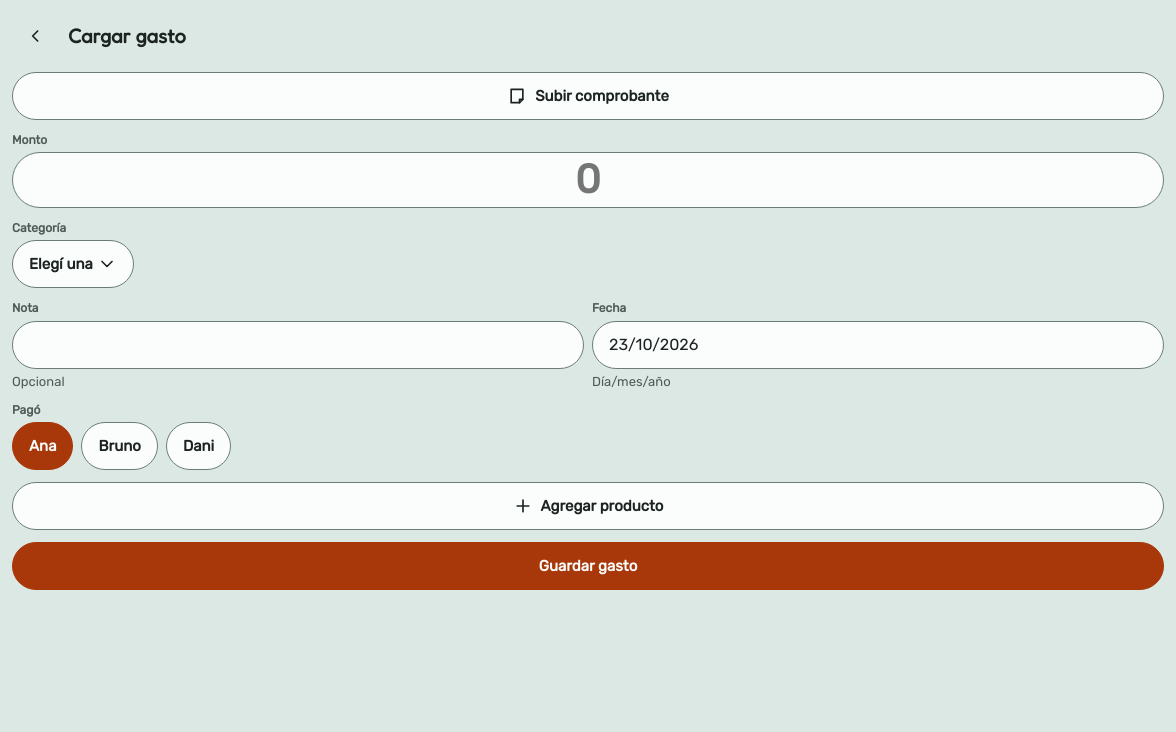
valida el monto y la categoría antes de guardar
This screenshot has width=1176, height=732.
Click the button "Guardar gasto" at x=588, y=566, box [12,542,1164,590]
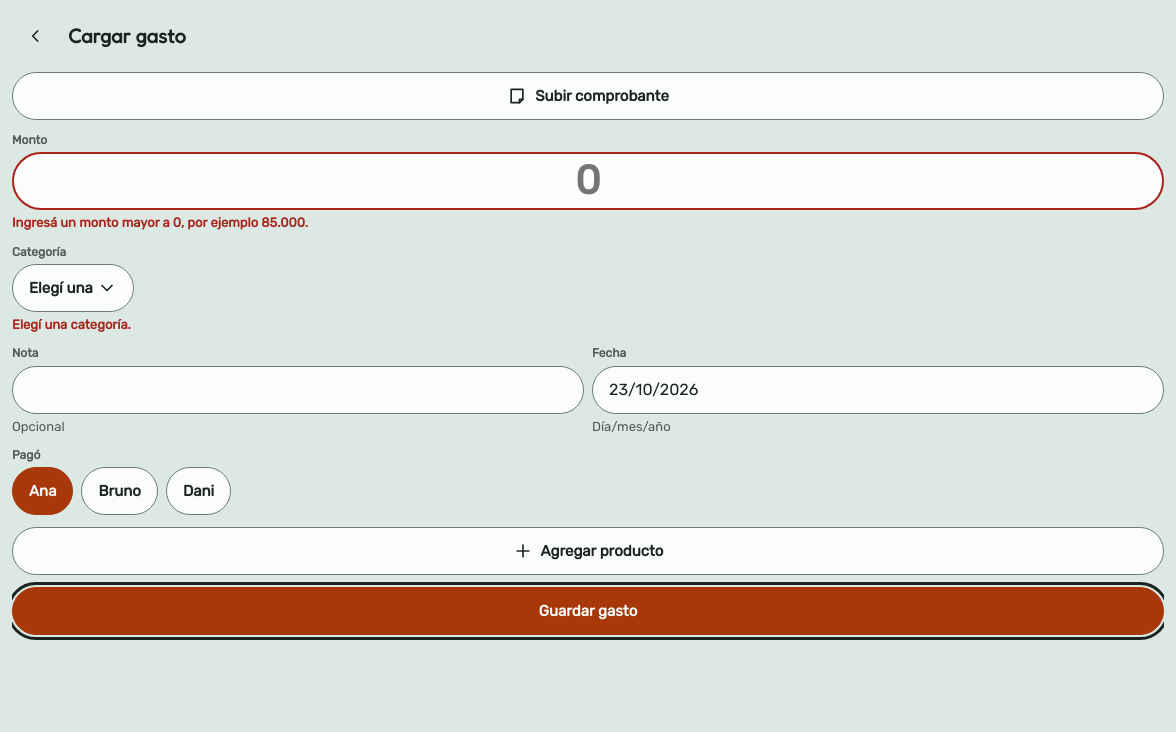
Expected: the text "Ingresá un monto mayor a 0, por ejemplo 85.000." is shown, [12,215,308,230]
Expected: the text "Elegí una categoría." is shown, [12,317,131,332]
Type "12,345" into the field labelled "Monto" at x=588, y=181, box [12,152,1164,210]
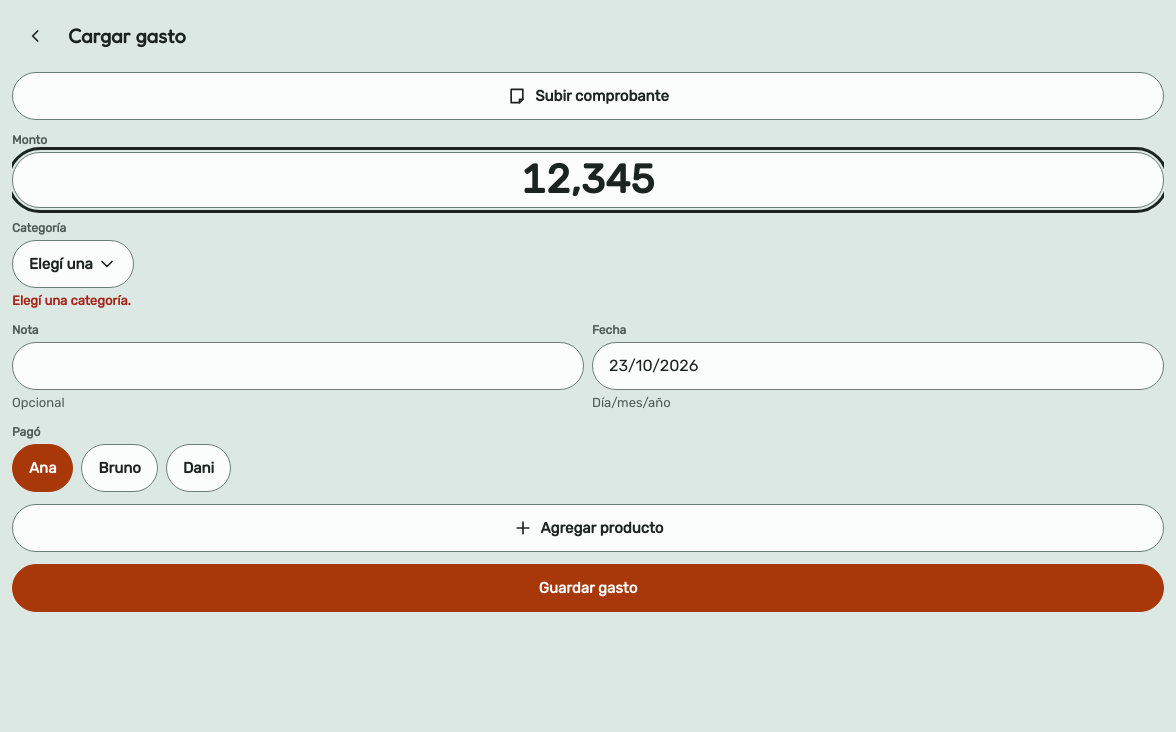
Click the button "Guardar gasto" at x=588, y=588, box [12,564,1164,612]
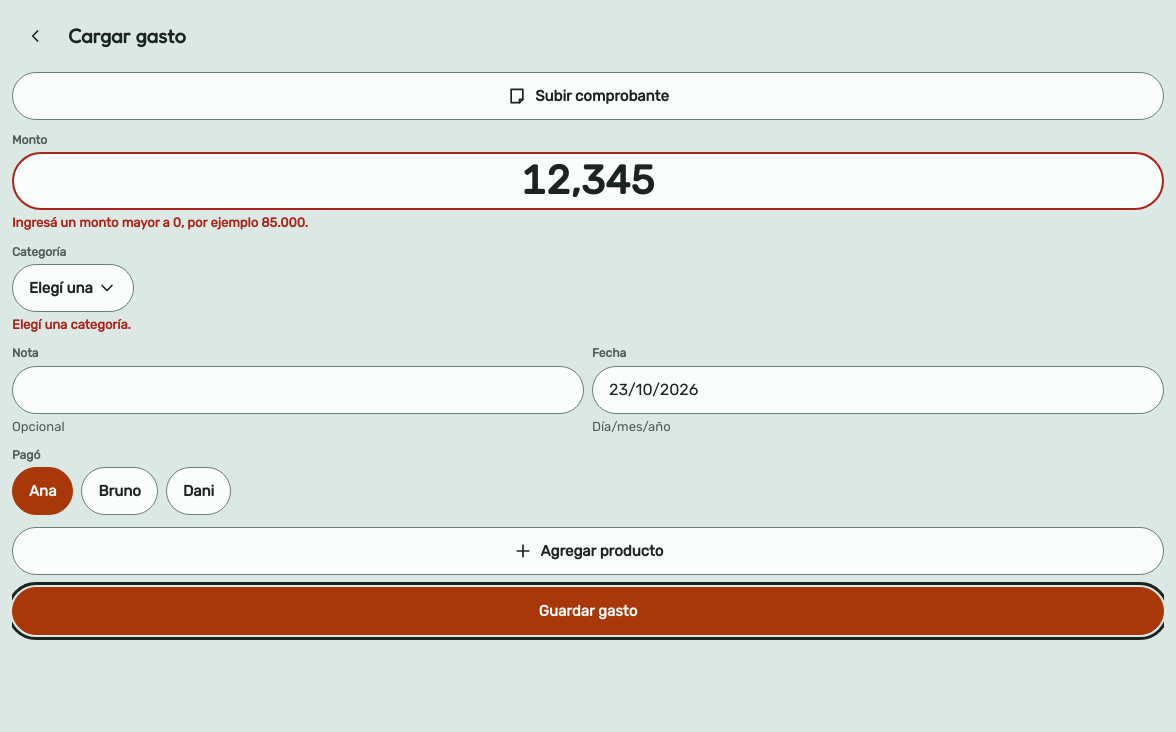
Expected: the text "Ingresá un monto mayor a 0, por ejemplo 85.000." is shown, [12,215,308,230]
